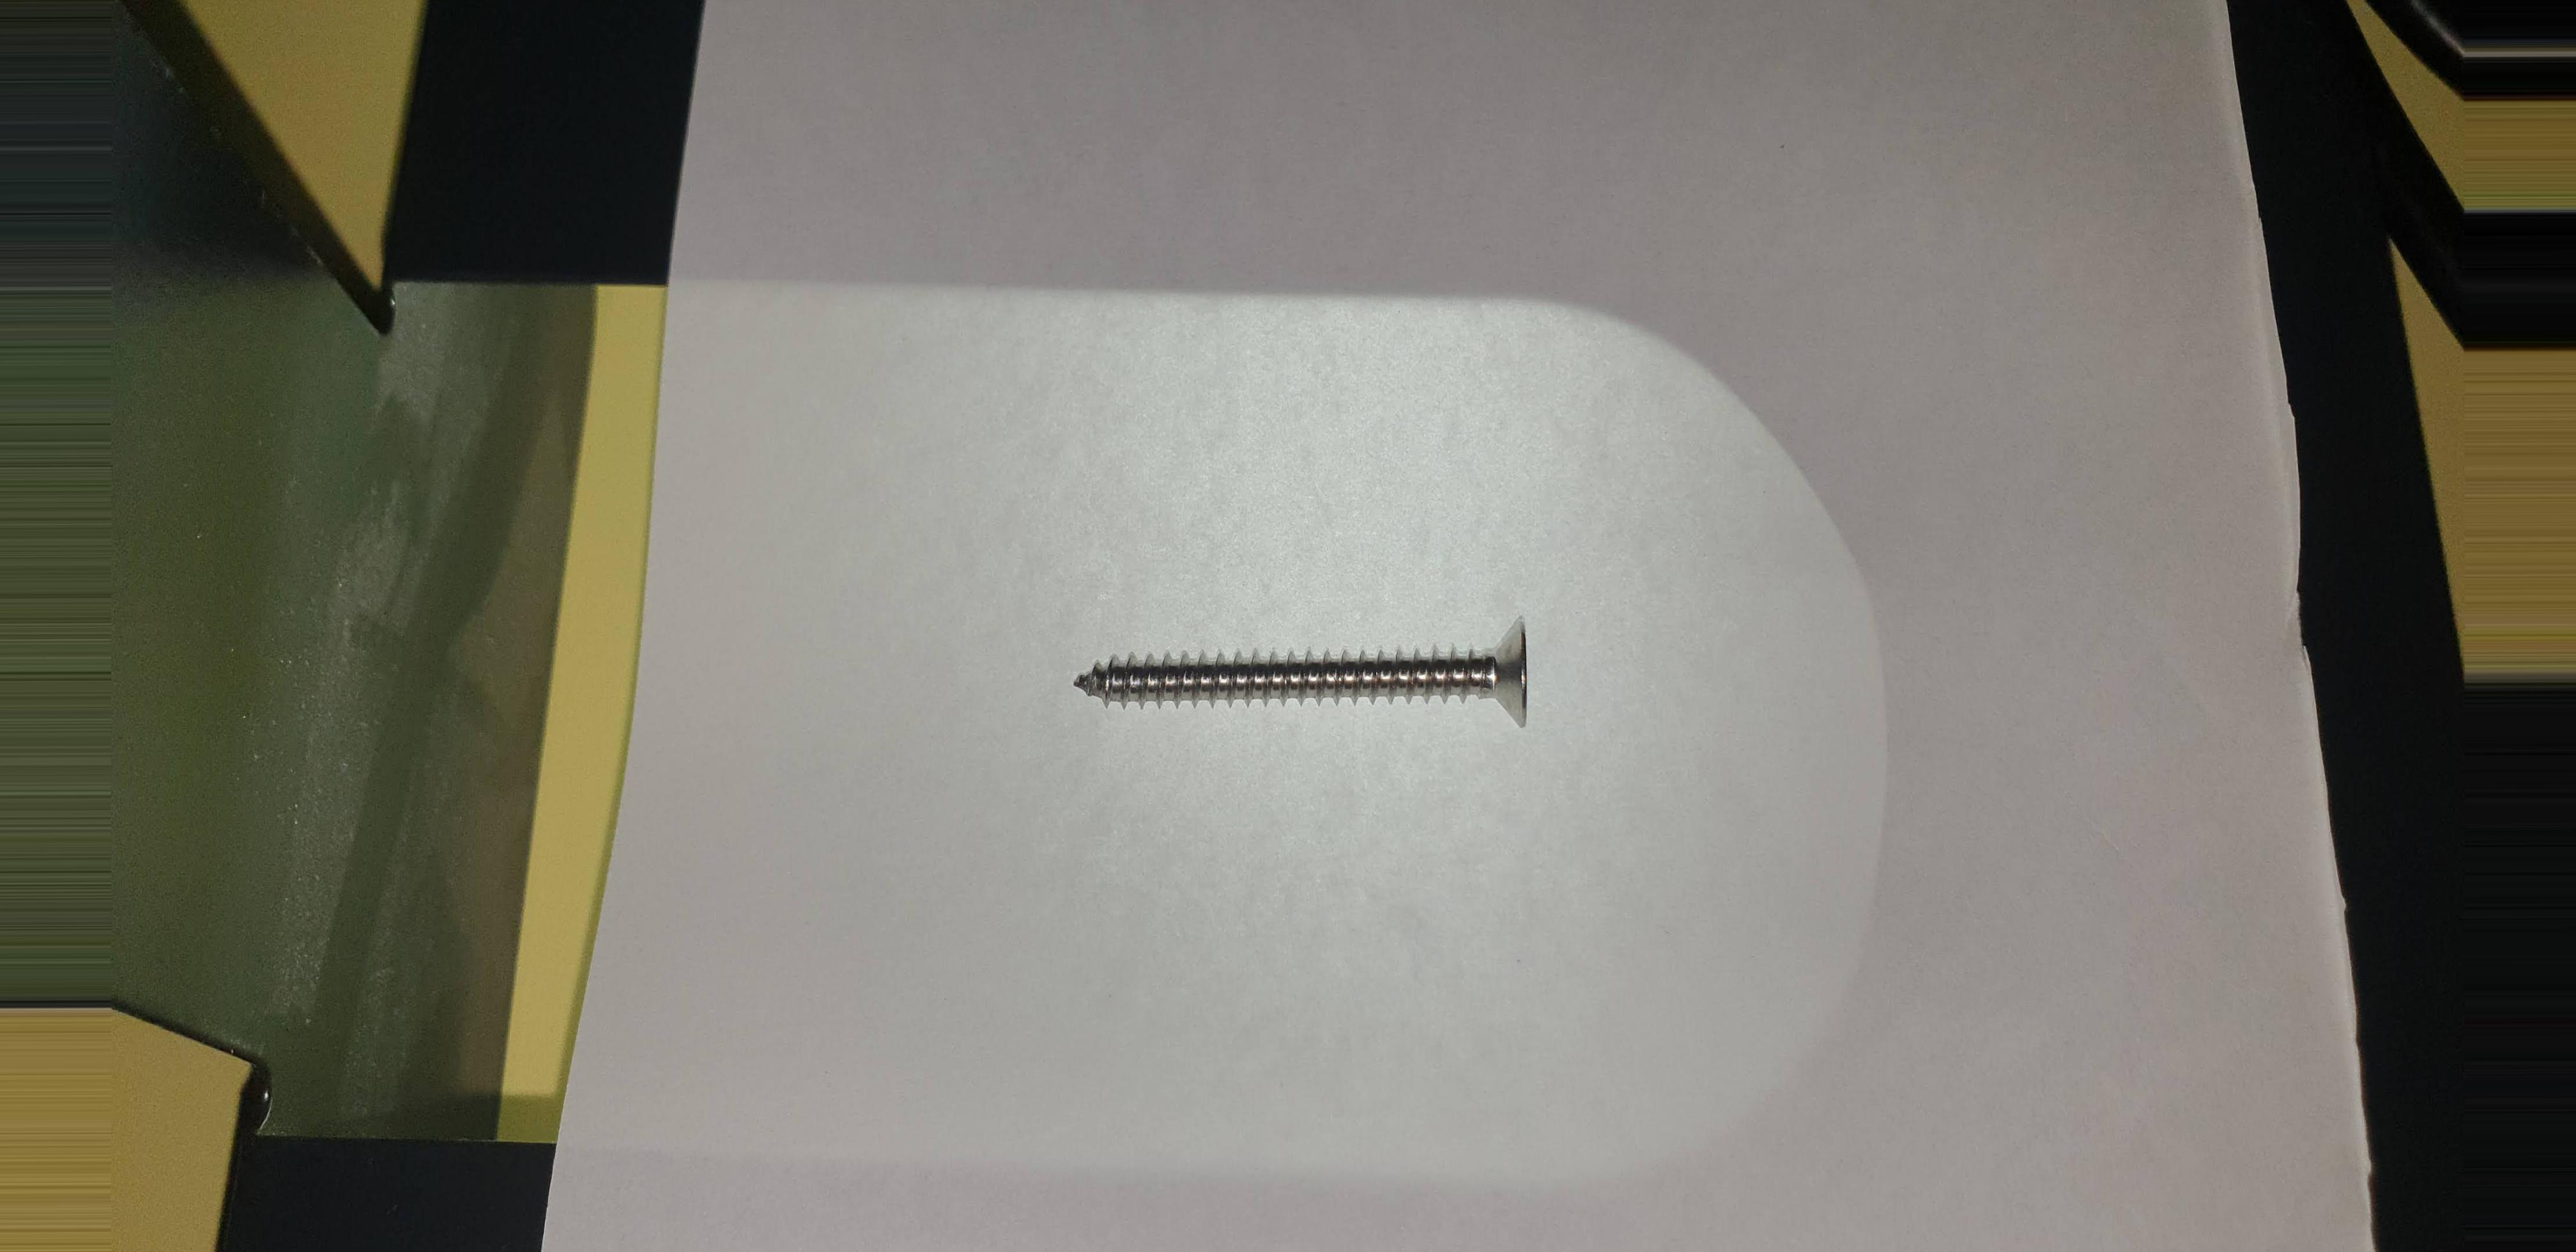fastener: (1027, 611, 1592, 753)
